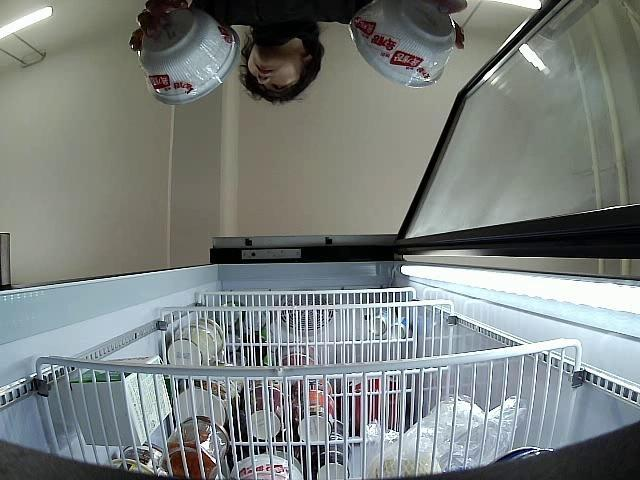09_yukGaeJang: (138, 8, 239, 105), (348, 0, 453, 89)
